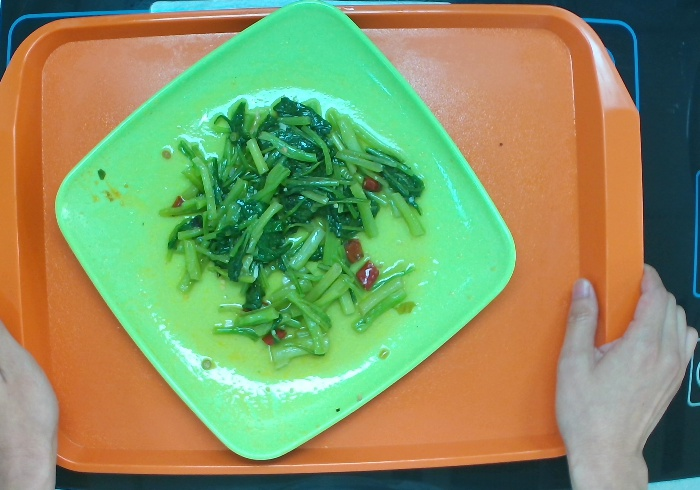ZNLD-Lv_Fang_Pan: (51, 2, 521, 465)
